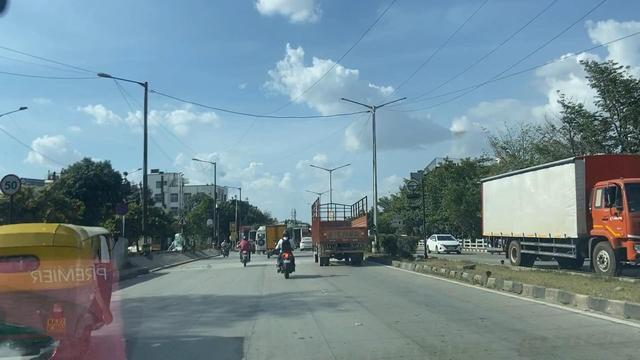HMV: (305, 201, 369, 261)
LMV: (0, 217, 114, 349), (271, 235, 300, 276)
